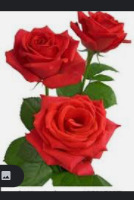RedRose: (28, 91, 125, 175), (3, 21, 89, 87), (68, 10, 133, 58)
